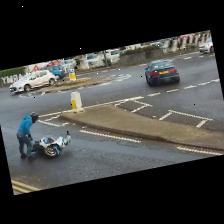person: (16, 113, 38, 161)
